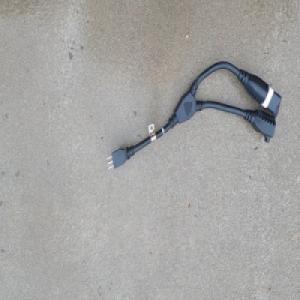Wire: (105, 59, 282, 172)
